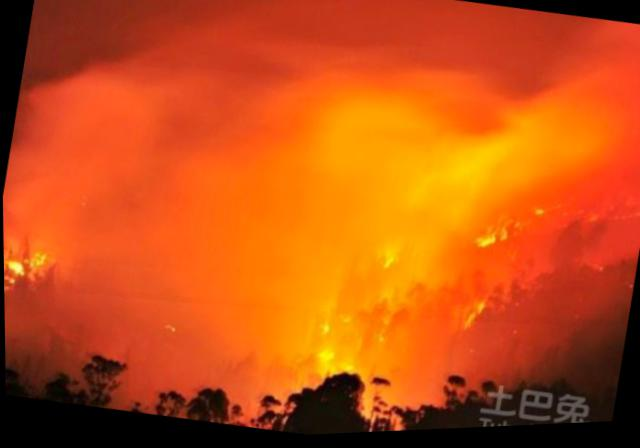fire: (299, 309, 398, 392), (3, 236, 58, 314), (449, 296, 491, 339), (470, 220, 507, 261), (371, 243, 404, 276)
